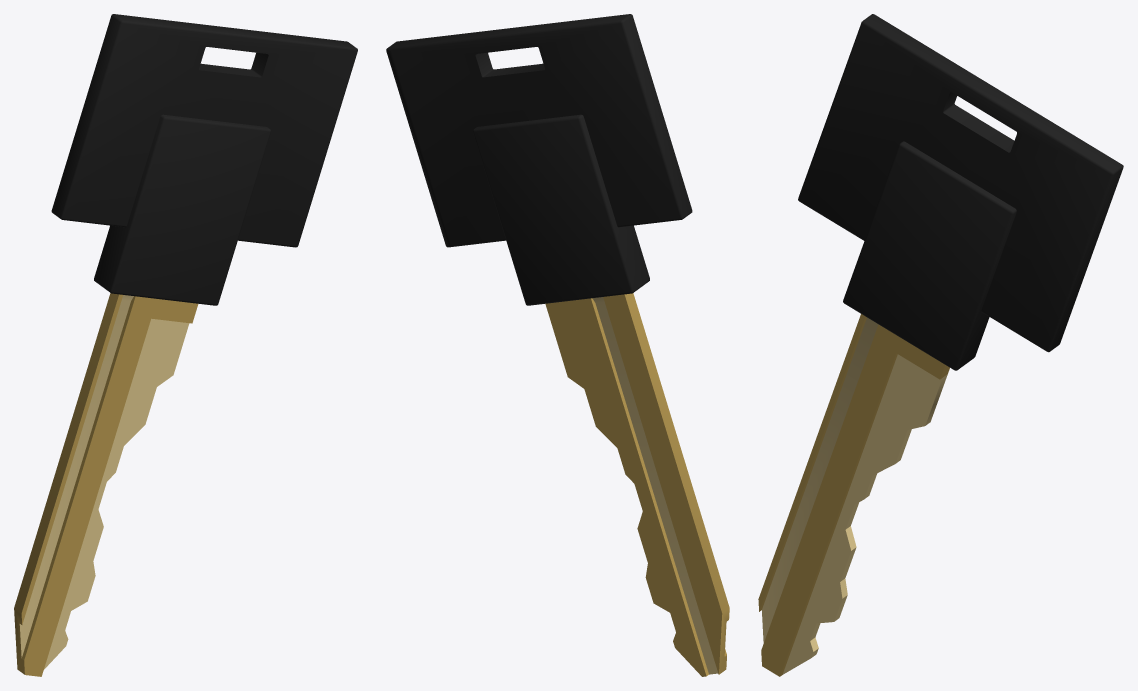
The model's file is SafeKey.fbx.
3 views of the same model, side by side, from view 1: azimuth 30°, elevation 25°; view 2: azimuth 150°, elevation 25°; view 3: azimuth 330°, elevation 25° (orthographic). The views are drawn at different scales.
Visible parts, largest first — view 1: Key11.001; view 2: Key11.001; view 3: Key11.001.
Part boxes in pixels (x1,y1,x2,y2): Key11.001: (14,14,357,676); Key11.001: (386,14,729,676); Key11.001: (758,14,1123,676).
Bounding box in the file's own units: 0.6003 × 1.09 × 0.0564.
1 material, 1 textured.
